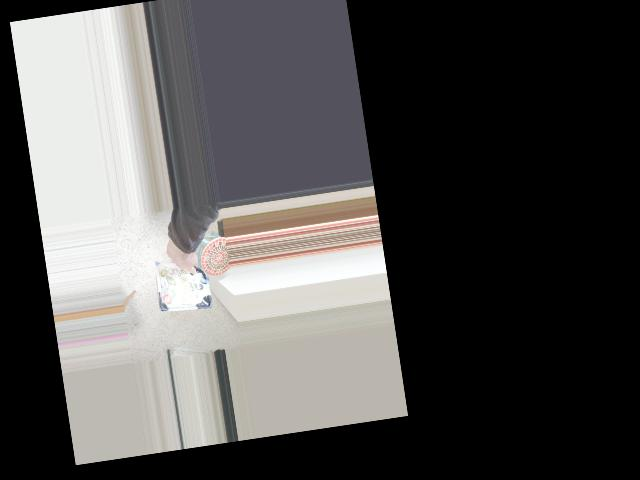cheese: (143, 237, 219, 313)
